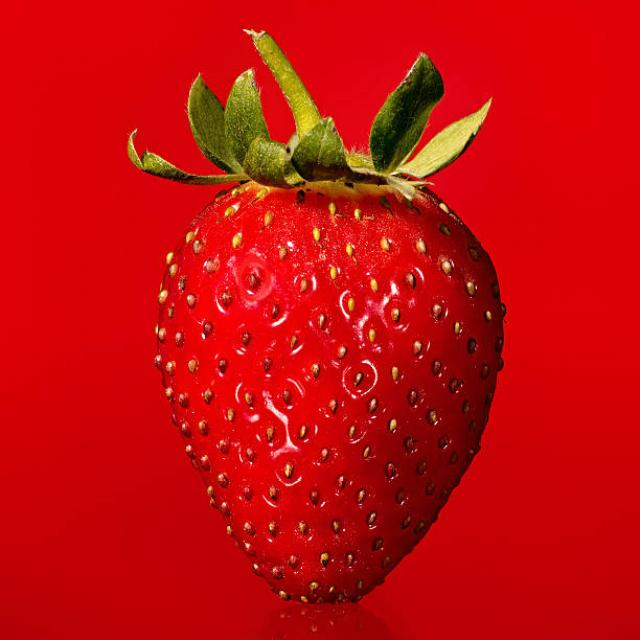strawberry: (146, 81, 508, 612)
